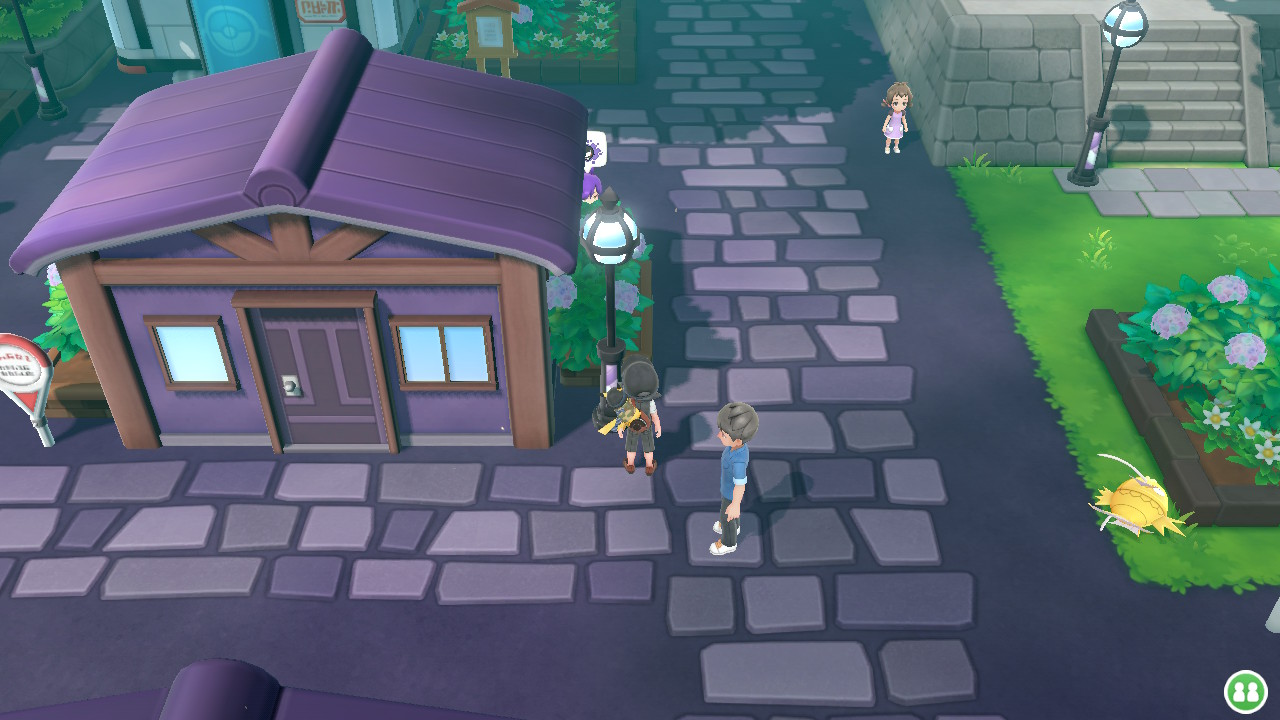Golden: (1084, 455, 1188, 539)
